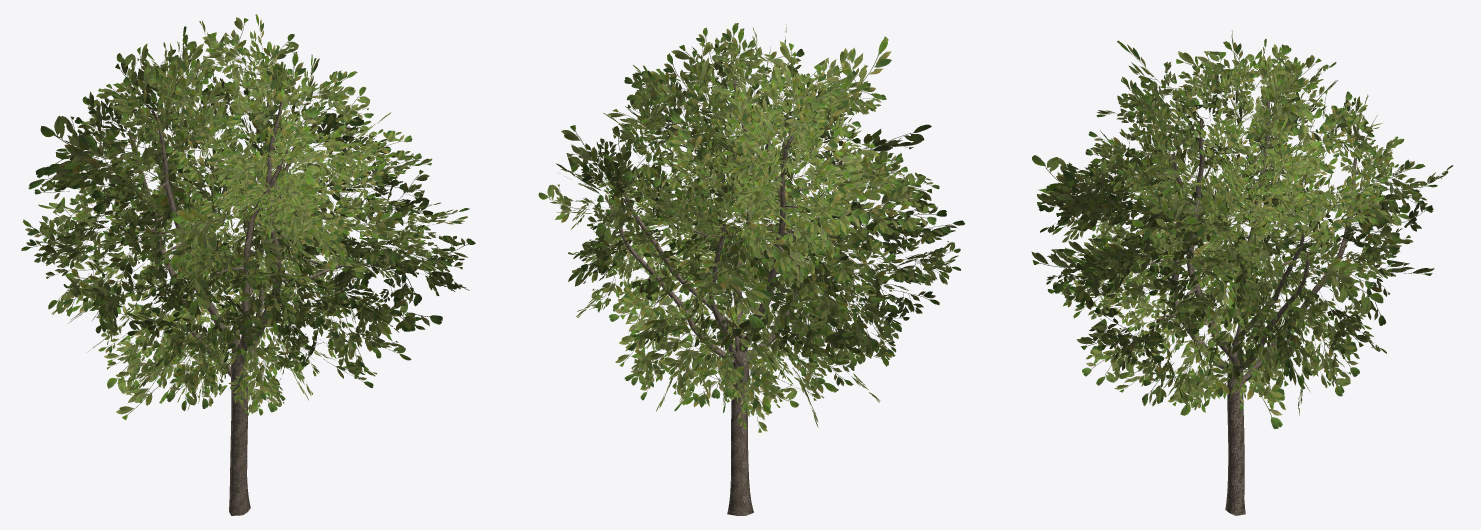
File: tree_oak_v1_l0.glb
3 views of the same model, side by side, from view 1: azimuth 30°, elevation 25°; view 2: azimuth 150°, elevation 25°; view 3: azimuth 270°, elevation 25° (orthographic). The views are drawn at different scales.
Parts seen in each view (by area): view 1: tree_oak_v1_l0; view 2: tree_oak_v1_l0; view 3: tree_oak_v1_l0.
Part boxes in pixels (bbox=[...]): tree_oak_v1_l0: bbox=[21, 14, 475, 515]; tree_oak_v1_l0: bbox=[538, 23, 964, 515]; tree_oak_v1_l0: bbox=[1031, 30, 1453, 515].
Size of the model in its own units: 11.12 by 12.93 by 11.76.
Materials: 2 (2 with a texture image).
